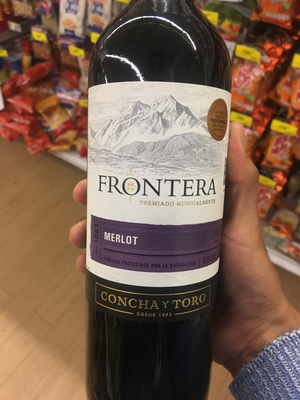frontera merlot: (84, 9, 222, 400)
